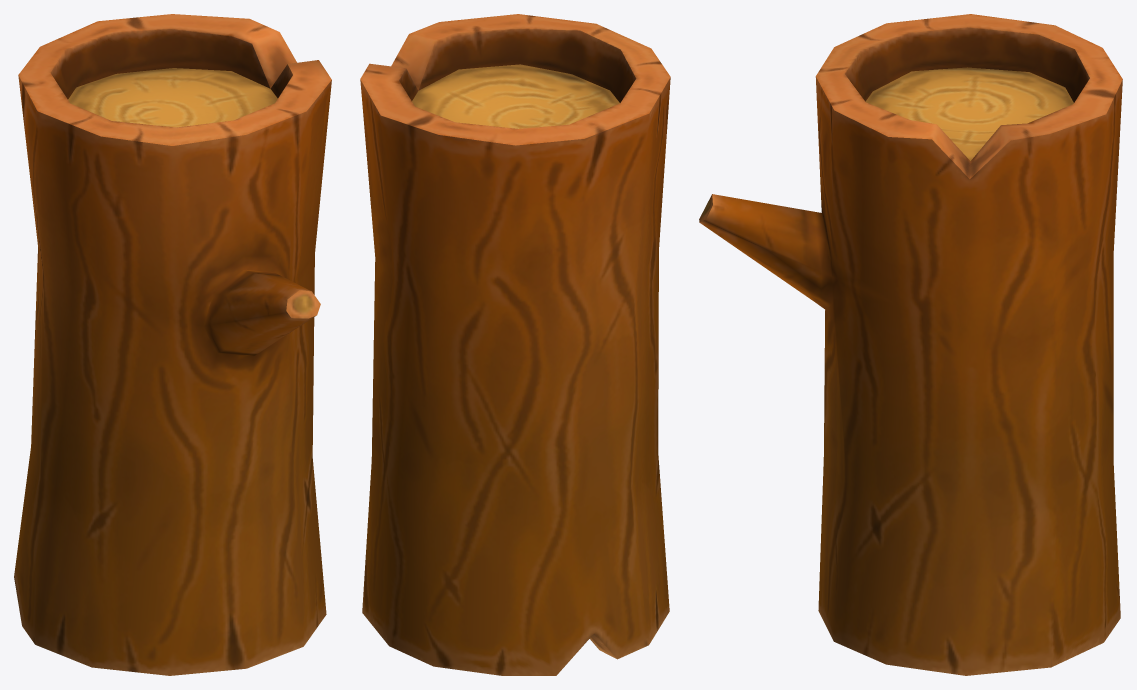
File: log_wood.fbx
3 views of the same model, side by side, from view 1: azimuth 30°, elevation 25°; view 2: azimuth 150°, elevation 25°; view 3: azimuth 270°, elevation 25° (orthographic).
Visible parts, largest first — view 1: log_wood; view 2: log_wood; view 3: log_wood.
Boxes of the visible parts, bbox=[...] form: log_wood: bbox=[14, 14, 331, 675]; log_wood: bbox=[360, 14, 670, 675]; log_wood: bbox=[699, 14, 1122, 675].
Bounding box in the file's own units: 196 × 267 × 376.
